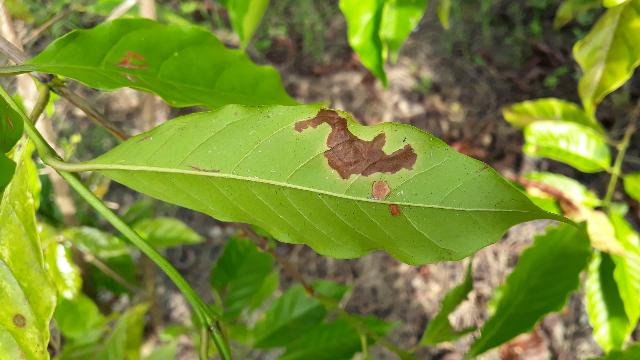red_spider_mite: (90, 100, 593, 267)
